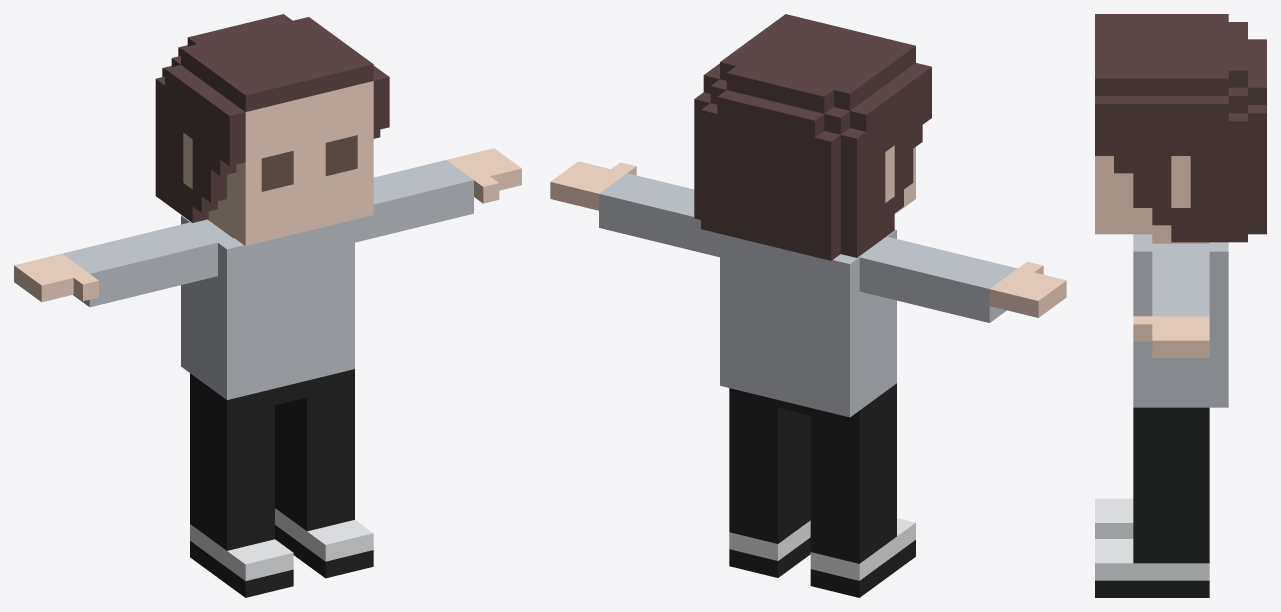
File: humanoid.fbx
3 renders of one model, left to right at view 1: azimuth 30°, elevation 25°; view 2: azimuth 150°, elevation 25°; view 3: azimuth 270°, elevation 25°, orthographic. The views are drawn at different scales.
Parts seen in each view (by area): view 1: Torso, Hair, Head, LegUpperRight, LegUpperLeft, LegLowerRight, LegLowerLeft, FootRight, FootLeft, ArmRight, ForeArmLeft, ForeArmRight (+5 smaller); view 2: Hair, Torso, LegUpperRight, LegLowerRight, LegLowerLeft, LegUpperLeft, ForeArmRight, ForeArmLeft, ArmRight, FootRight, HandRight, FootLeft (+3 smaller); view 3: Hair, Torso, LegUpperLeft, LegLowerLeft, FootLeft, Head, HandLeft, ForeArmLeft, ArmLeft, FootRight.
Part boxes in pixels (box(x1,y1,x2,y2)): Torso: box(181, 215, 354, 399); Hair: box(155, 14, 389, 222); Head: box(183, 81, 373, 245); LegUpperRight: box(190, 373, 290, 483); LegUpperLeft: box(275, 369, 354, 464); LegLowerRight: box(190, 457, 274, 550); LegLowerLeft: box(275, 441, 354, 531); FootRight: box(190, 524, 293, 597); FootLeft: box(275, 508, 373, 578); ArmRight: box(126, 222, 217, 291); ForeArmLeft: box(382, 160, 473, 229); ForeArmRight: box(62, 238, 153, 307); Hair: box(694, 14, 931, 260); Torso: box(720, 229, 896, 417); LegUpperRight: box(794, 383, 896, 495); LegLowerRight: box(810, 468, 896, 563); LegLowerLeft: box(729, 452, 810, 543); LegUpperLeft: box(729, 388, 810, 475); ForeArmRight: box(924, 252, 1017, 322); ForeArmLeft: box(599, 173, 691, 243); ArmRight: box(859, 237, 952, 307); FootRight: box(810, 518, 915, 597); HandRight: box(989, 261, 1066, 317); FootLeft: box(729, 520, 810, 577); Hair: box(1095, 14, 1266, 242); Torso: box(1133, 234, 1228, 407); LegUpperLeft: box(1133, 407, 1209, 493); LegLowerLeft: box(1133, 494, 1209, 563); FootLeft: box(1095, 539, 1209, 597); Head: box(1095, 156, 1209, 243); HandLeft: box(1133, 316, 1209, 357); ForeArmLeft: box(1152, 284, 1209, 316); ArmLeft: box(1152, 251, 1209, 283); FootRight: box(1095, 498, 1133, 538).
Bounding box in the file's own units: 300 × 300 × 90.
1 material, 1 textured.
